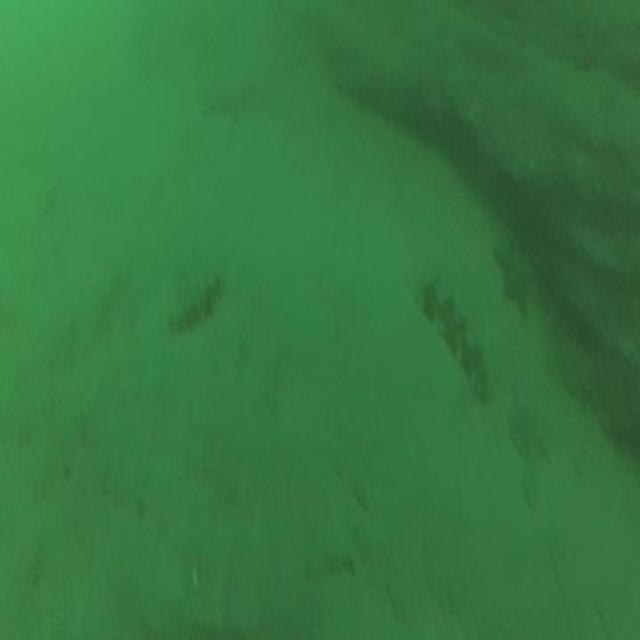holothurian: (420, 260, 495, 408), (165, 259, 228, 340)
starfish: (492, 232, 540, 314)
